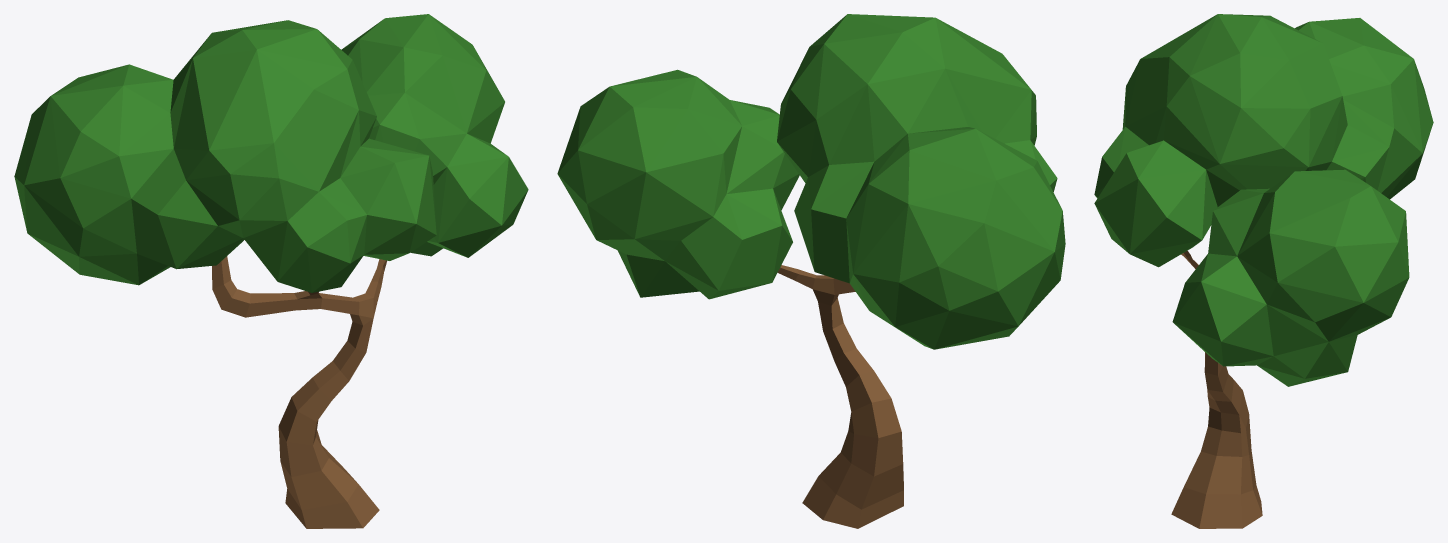
Rendered from tree_3.glb.
3 renders of one model, left to right at view 1: azimuth 30°, elevation 25°; view 2: azimuth 150°, elevation 25°; view 3: azimuth 270°, elevation 25°, orthographic. The views are drawn at different scales.
Parts seen in each view (by area): view 1: 4; view 2: 4; view 3: 4.
Boxes of the visible parts, <box> form: 4: <box>14,14,528,528</box>; 4: <box>557,14,1065,528</box>; 4: <box>1094,14,1433,528</box>.
Bounding box in the file's own units: 13.99 × 14.14 × 9.37.
